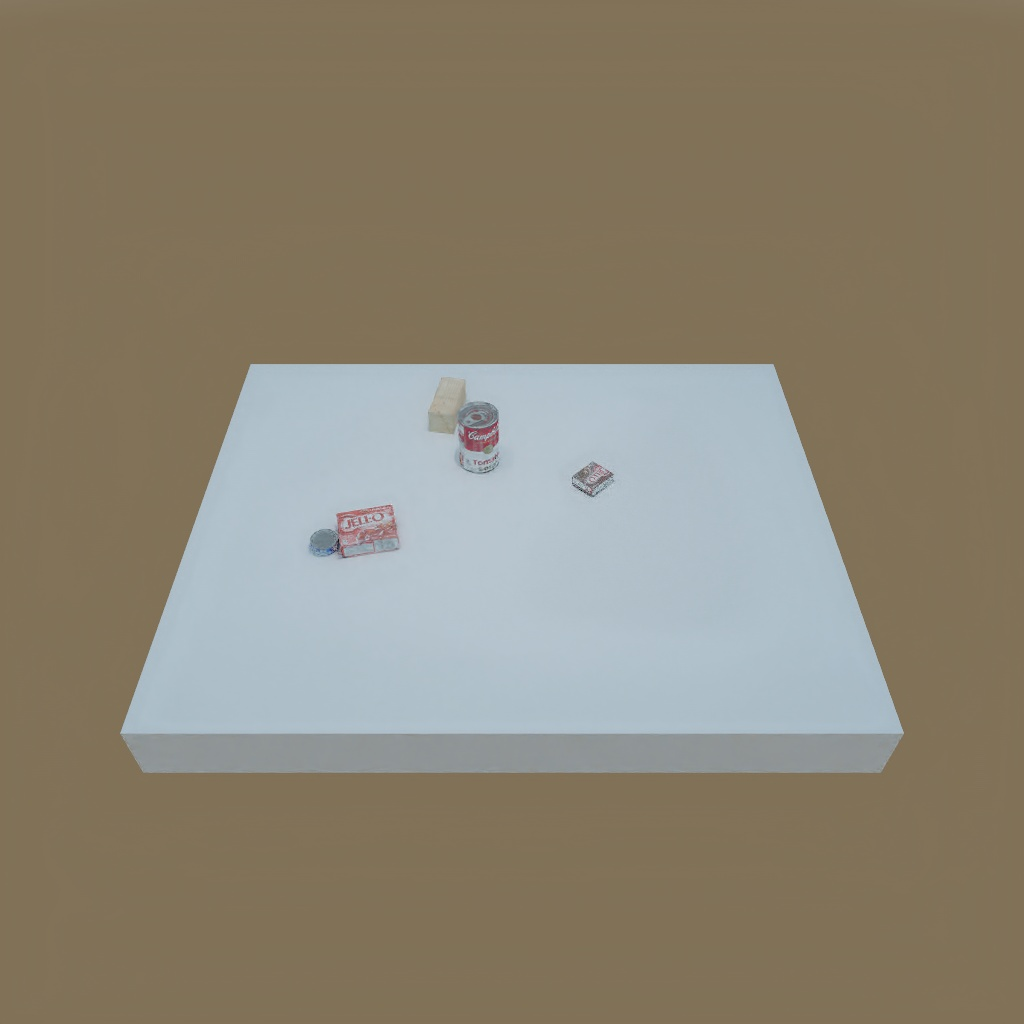gelatin_box: (337, 507, 402, 556)
pudding_box: (568, 459, 619, 496)
tomato_soup_can: (453, 402, 502, 474)
wood_block: (425, 371, 462, 433)
